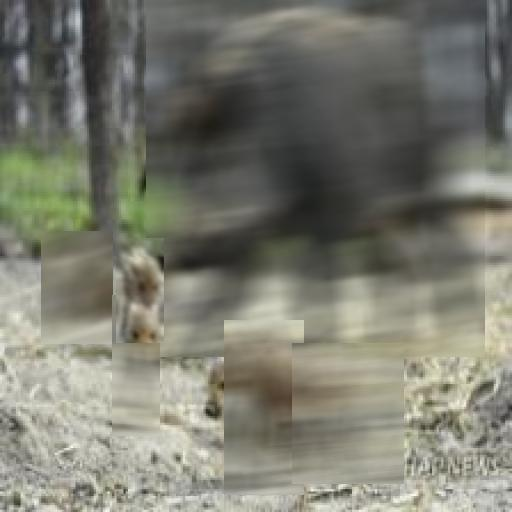Pig: (146, 0, 485, 357), (292, 343, 404, 484), (224, 320, 304, 495), (41, 231, 113, 344), (112, 295, 160, 436), (116, 238, 164, 343)
